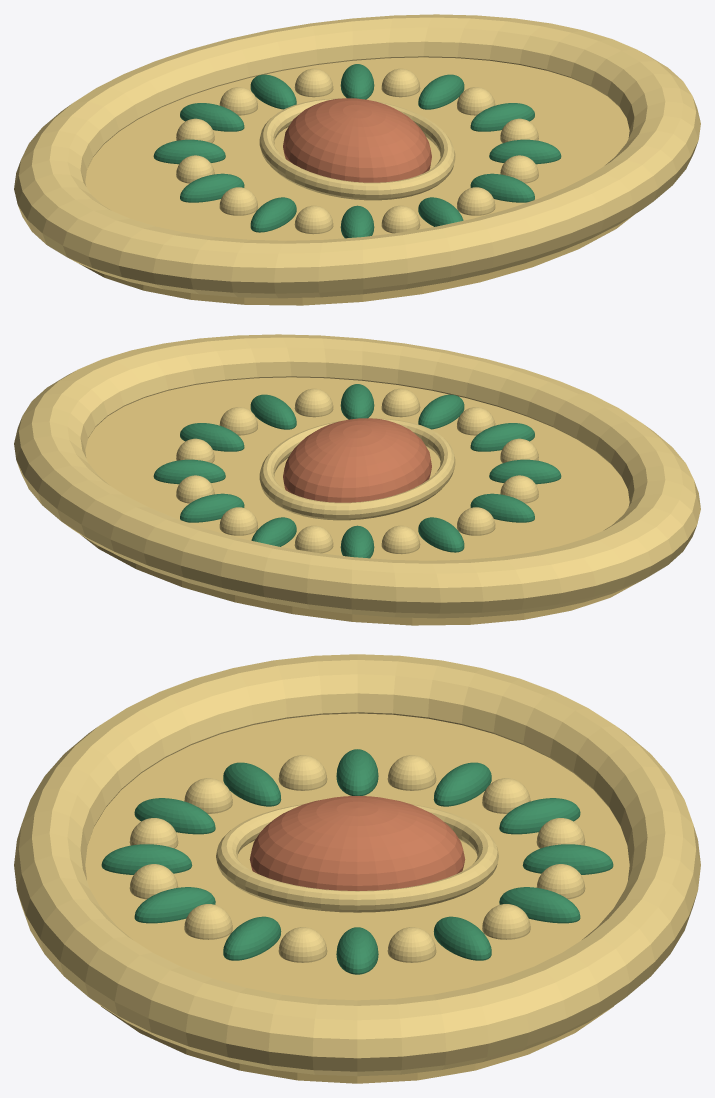
File: 06_gold_cameo_brooch.fbx
3 renders of one model, top to bottom at view 1: azimuth 30°, elevation 25°; view 2: azimuth 150°, elevation 25°; view 3: azimuth 270°, elevation 25°, orthographic. The views are drawn at different scales.
Parts seen in each view (by area): view 1: RopeBorder, BaseDisc, Cameo, CameoBezel, Petal_11, Petal_5, Petal_6, Petal_10, Petal_0, Petal_4, Petal_7, Petal_1 (+16 smaller); view 2: RopeBorder, BaseDisc, Cameo, CameoBezel, Petal_1, Petal_7, Petal_6, Petal_2, Petal_0, Petal_8, Petal_5, Petal_11 (+16 smaller); view 3: RopeBorder, BaseDisc, Cameo, CameoBezel, Petal_3, Petal_9, Petal_10, Petal_2, Petal_4, Petal_8, Petal_1, Petal_11 (+16 smaller).
Part boxes in pixels (left/top/right/bottom): RopeBorder: left=14, top=14, right=700, bottom=298; BaseDisc: left=80, top=57, right=633, bottom=305; Cameo: left=283, top=98, right=431, bottom=182; CameoBezel: left=259, top=98, right=455, bottom=200; Petal_11: left=489, top=139, right=561, bottom=164; Petal_5: left=153, top=139, right=225, bottom=164; Petal_6: left=180, top=173, right=244, bottom=202; Petal_10: left=470, top=173, right=534, bottom=202; Petal_0: left=470, top=103, right=534, bottom=131; Petal_4: left=180, top=103, right=244, bottom=131; Petal_7: left=250, top=197, right=296, bottom=232; Petal_1: left=418, top=74, right=464, bottom=109; RopeBorder: left=14, top=334, right=700, bottom=618; BaseDisc: left=81, top=377, right=634, bottom=625; Cameo: left=283, top=418, right=431, bottom=502; CameoBezel: left=259, top=418, right=455, bottom=520; Petal_1: left=153, top=459, right=225, bottom=484; Petal_7: left=489, top=459, right=561, bottom=484; Petal_6: left=470, top=493, right=534, bottom=522; Petal_2: left=180, top=493, right=244, bottom=522; Petal_0: left=180, top=423, right=244, bottom=451; Petal_8: left=470, top=423, right=534, bottom=451; Petal_5: left=418, top=517, right=464, bottom=552; Petal_11: left=250, top=394, right=296, bottom=429; RopeBorder: left=14, top=654, right=700, bottom=1076; BaseDisc: left=85, top=713, right=629, bottom=1083; Cameo: left=249, top=796, right=465, bottom=890; CameoBezel: left=216, top=804, right=498, bottom=912; Petal_3: left=522, top=844, right=613, bottom=874; Petal_9: left=101, top=844, right=192, bottom=874; Petal_10: left=134, top=887, right=215, bottom=923; Petal_2: left=499, top=887, right=580, bottom=923; Petal_4: left=499, top=798, right=580, bottom=834; Petal_8: left=134, top=798, right=215, bottom=834; Petal_1: left=433, top=916, right=491, bottom=960; Petal_11: left=223, top=916, right=281, bottom=960.
Size of the model in its own units: 5.64 by 0.7 by 4.24.
